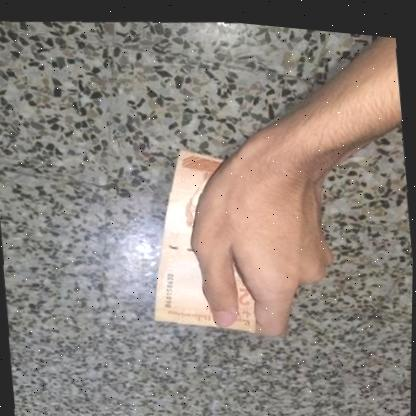twenty-front-vef: (136, 135, 261, 338)
